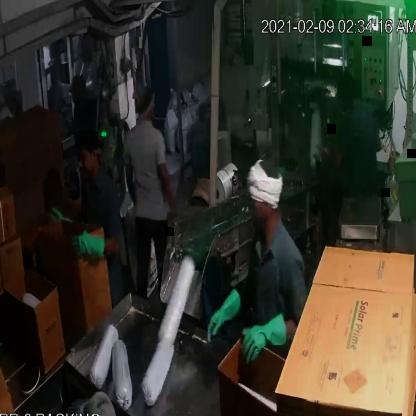glove: (234, 314, 289, 367), (201, 288, 248, 346), (67, 228, 114, 270)
no_glove: (154, 150, 184, 220)
